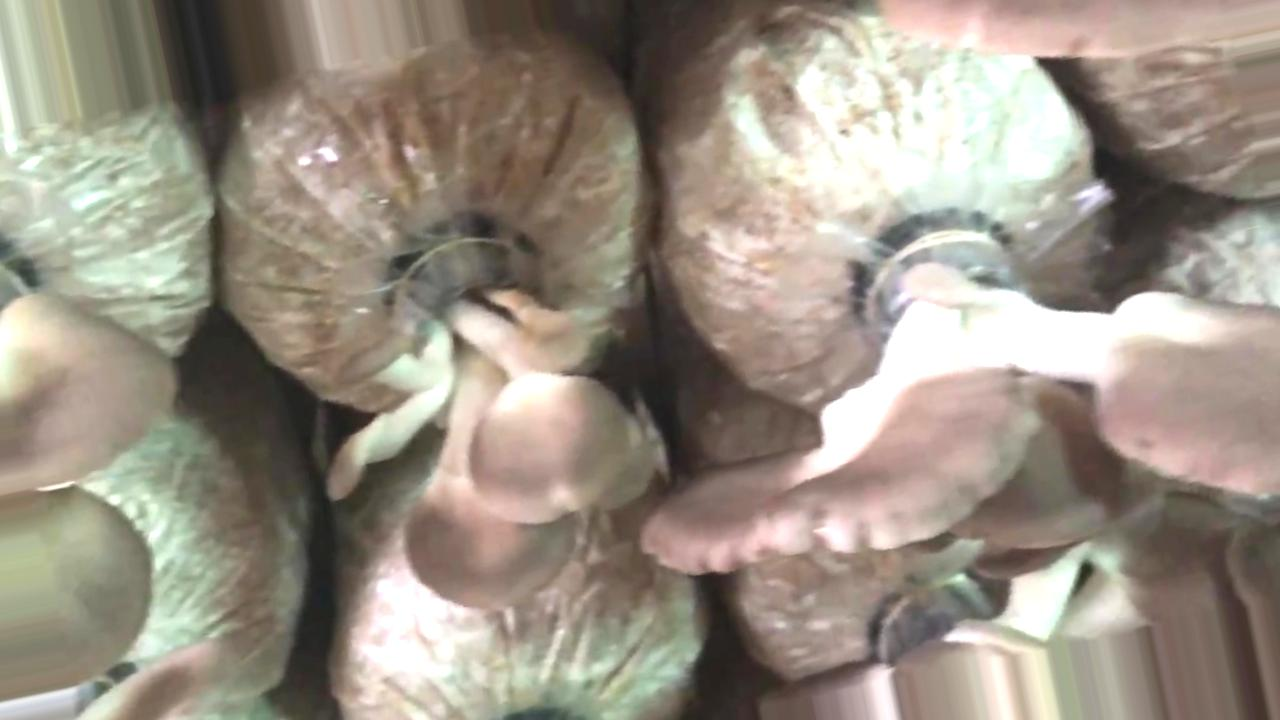nam: (638, 202, 1280, 579), (318, 209, 655, 618), (1, 260, 182, 709)
